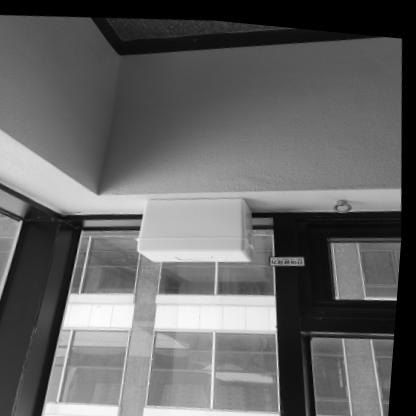DDL: (140, 186, 256, 263)
